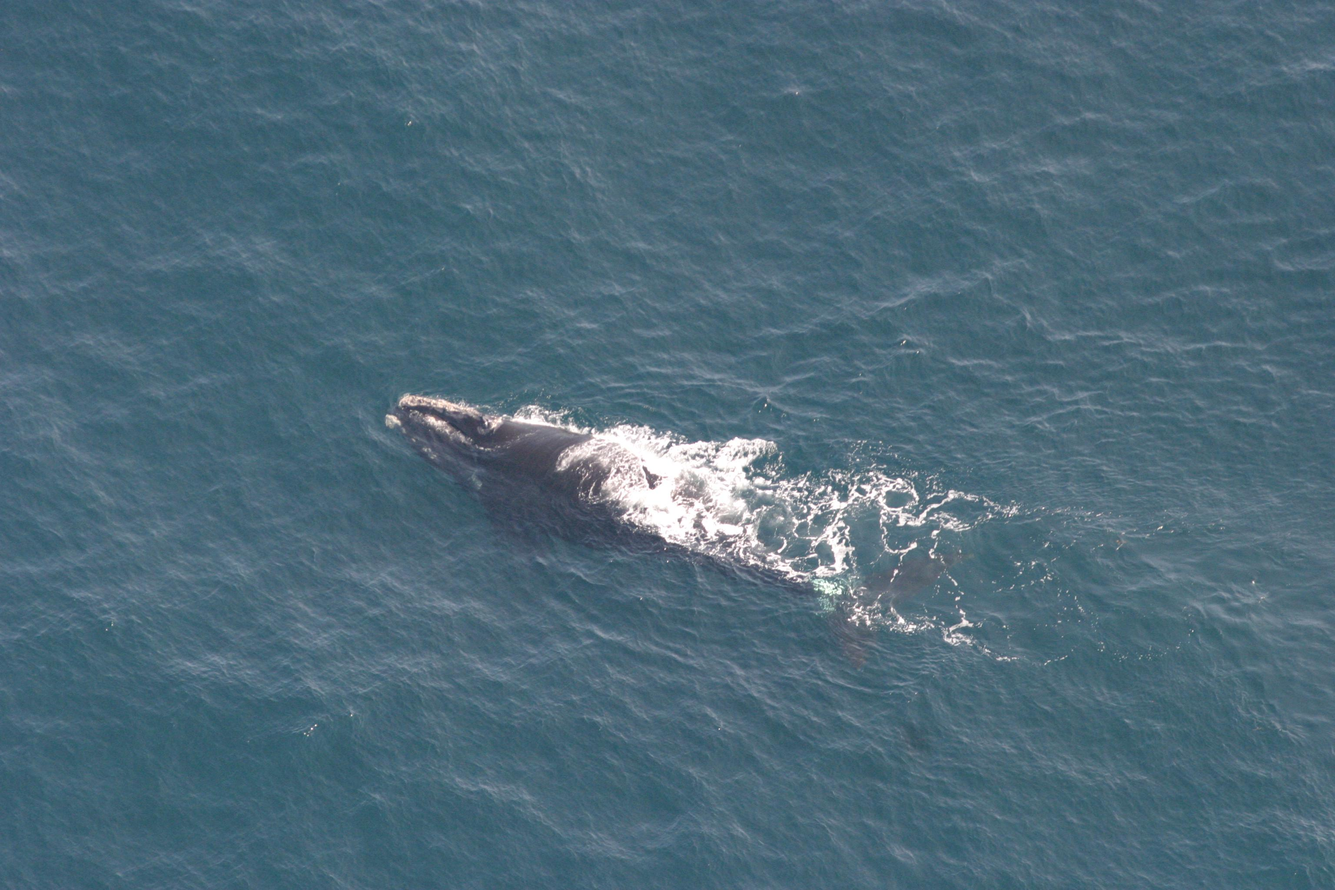whale: (377, 385, 991, 690)
